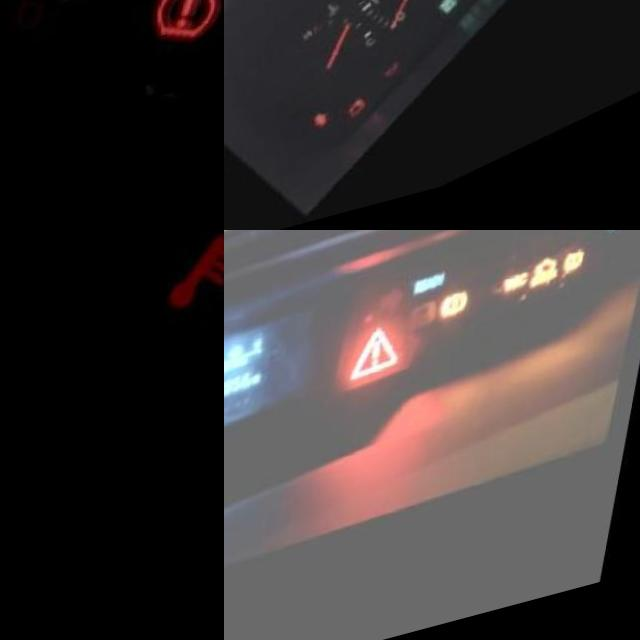Engine cooling system: (143, 230, 224, 373), (314, 13, 338, 39)
Low fuel level: (0, 431, 66, 599)
